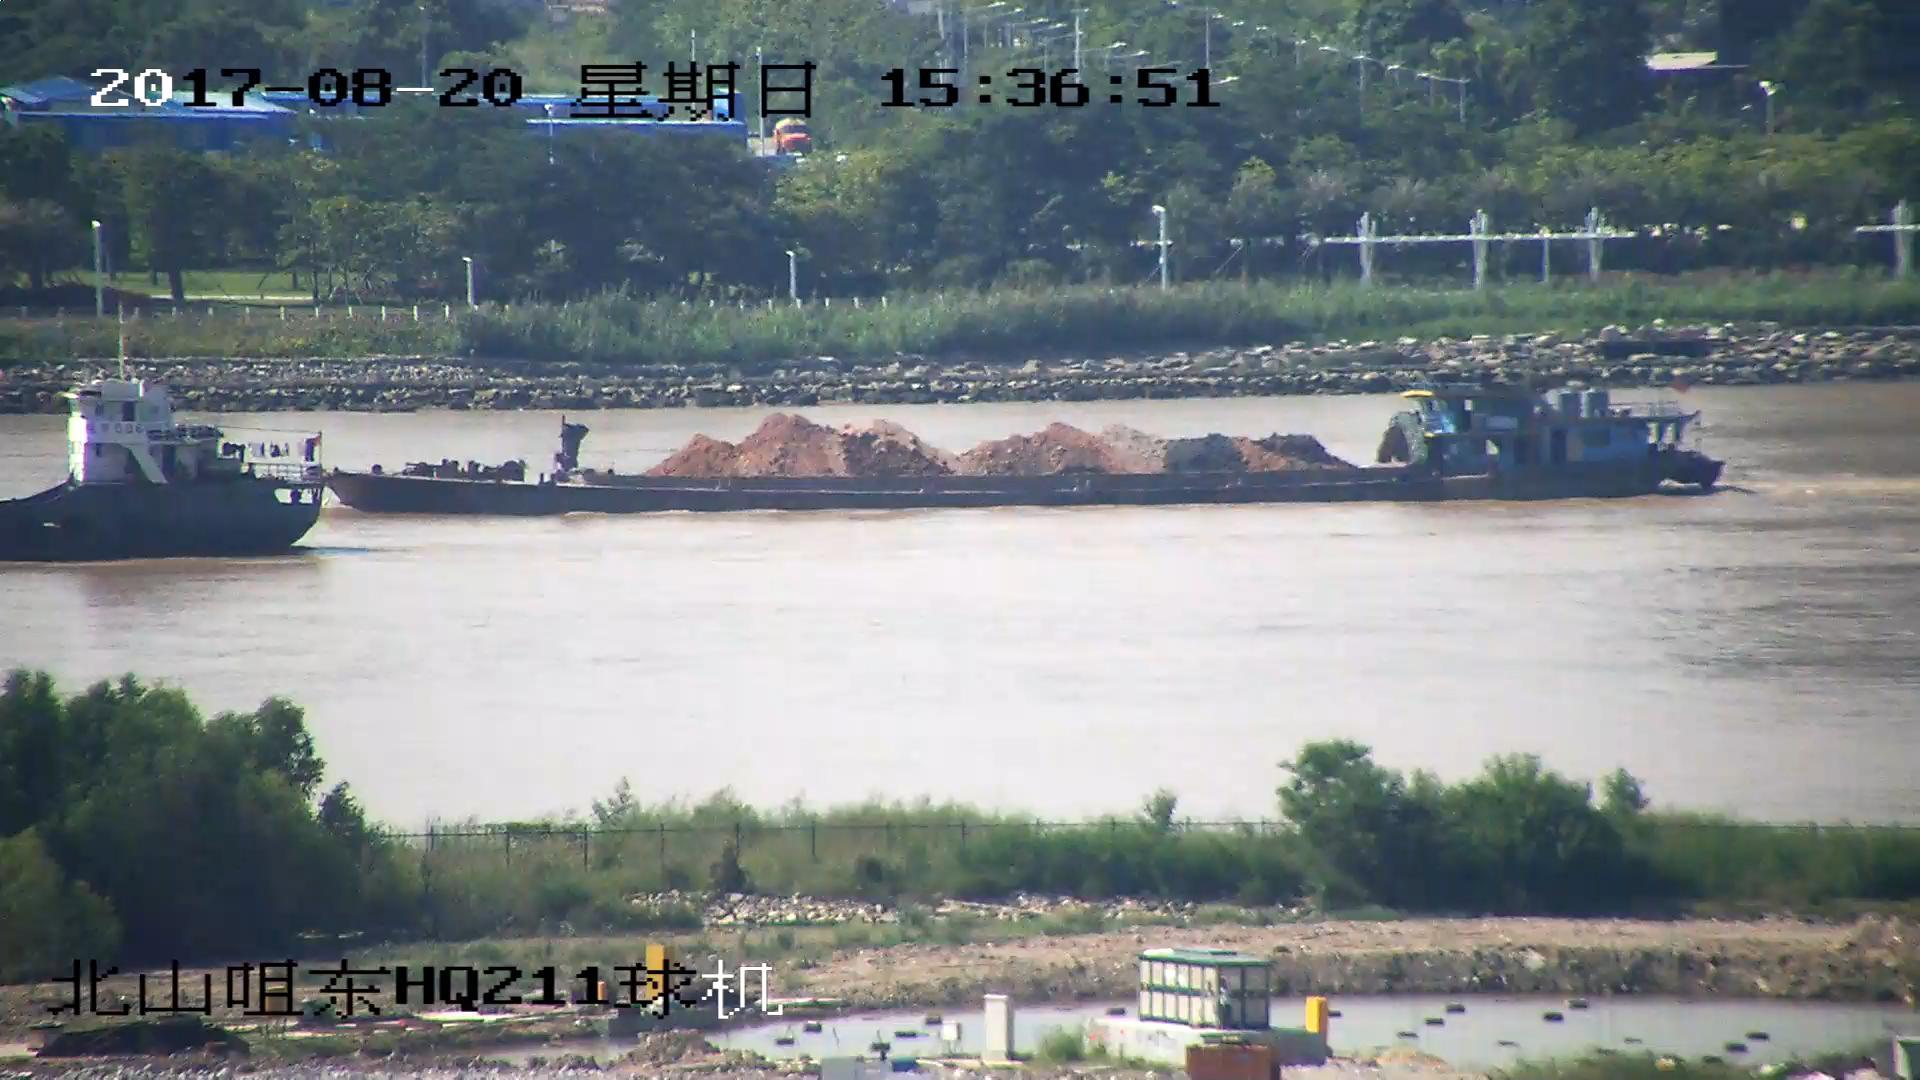Ship: (305, 328, 1743, 512), (3, 316, 342, 572)
